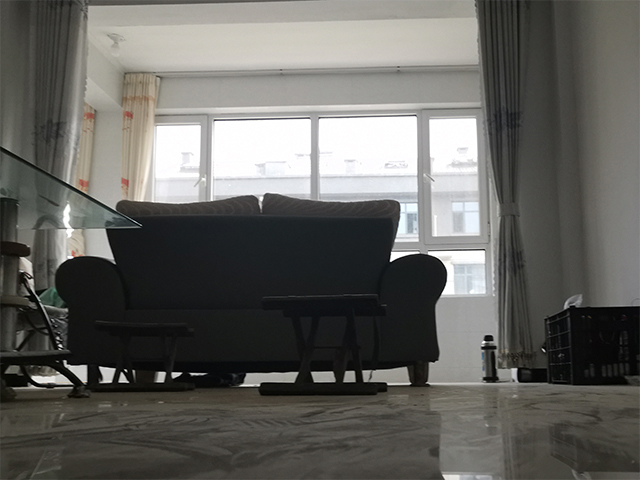curtain: (29, 1, 92, 372), (474, 1, 535, 370), (115, 68, 160, 198)
sofa: (53, 191, 449, 388)
stool: (258, 293, 389, 396), (90, 319, 198, 394)
